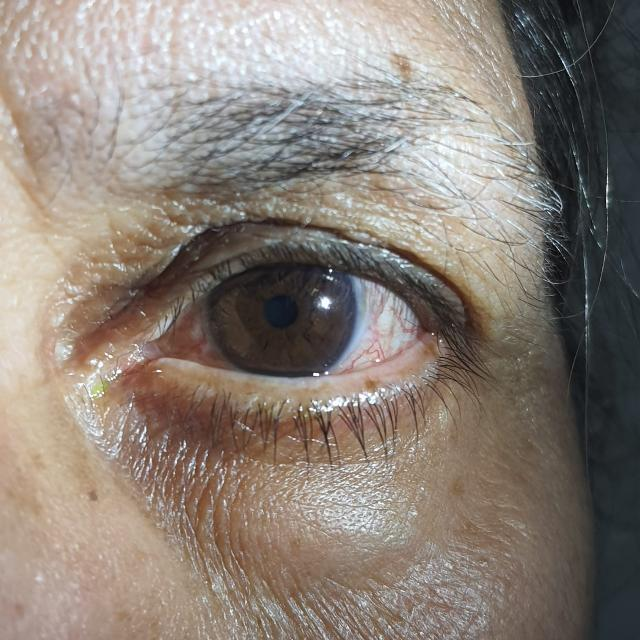eye: (204, 264, 360, 378)
